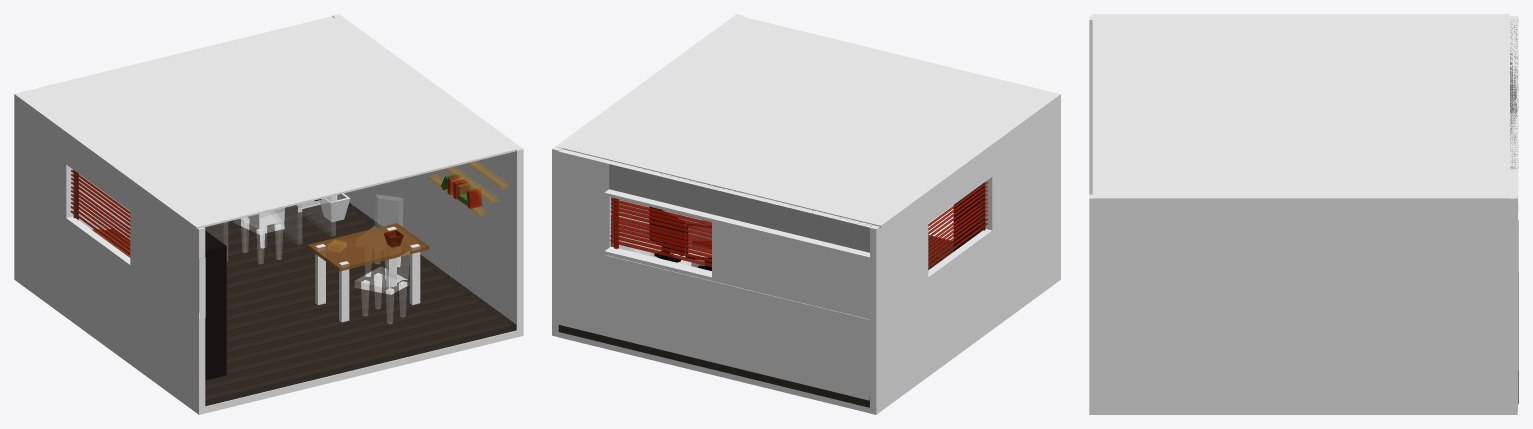
3 views of the same model, side by side, from view 1: azimuth 30°, elevation 25°; view 2: azimuth 150°, elevation 25°; view 3: azimuth 270°, elevation 25° (orthographic). The views are drawn at different scales.
Parts seen in each view (by area): view 1: Plane; view 2: Plane; view 3: Plane.
Part boxes in pixels (x1=…): Plane: x1=14, y1=14, x2=523, y2=414; Plane: x1=552, y1=14, x2=1060, y2=414; Plane: x1=1089, y1=14, x2=1518, y2=414.
Bounding box in the file's own units: 9.31 × 5.11 × 9.16.
